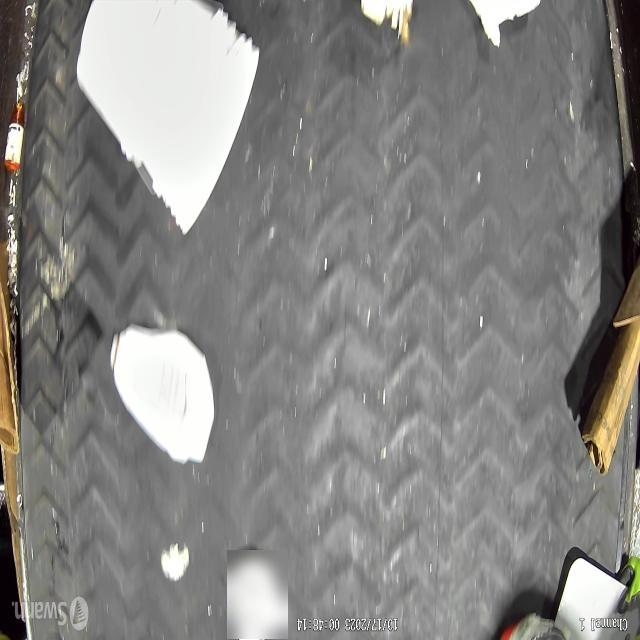milk_jug: (109, 324, 212, 466)
